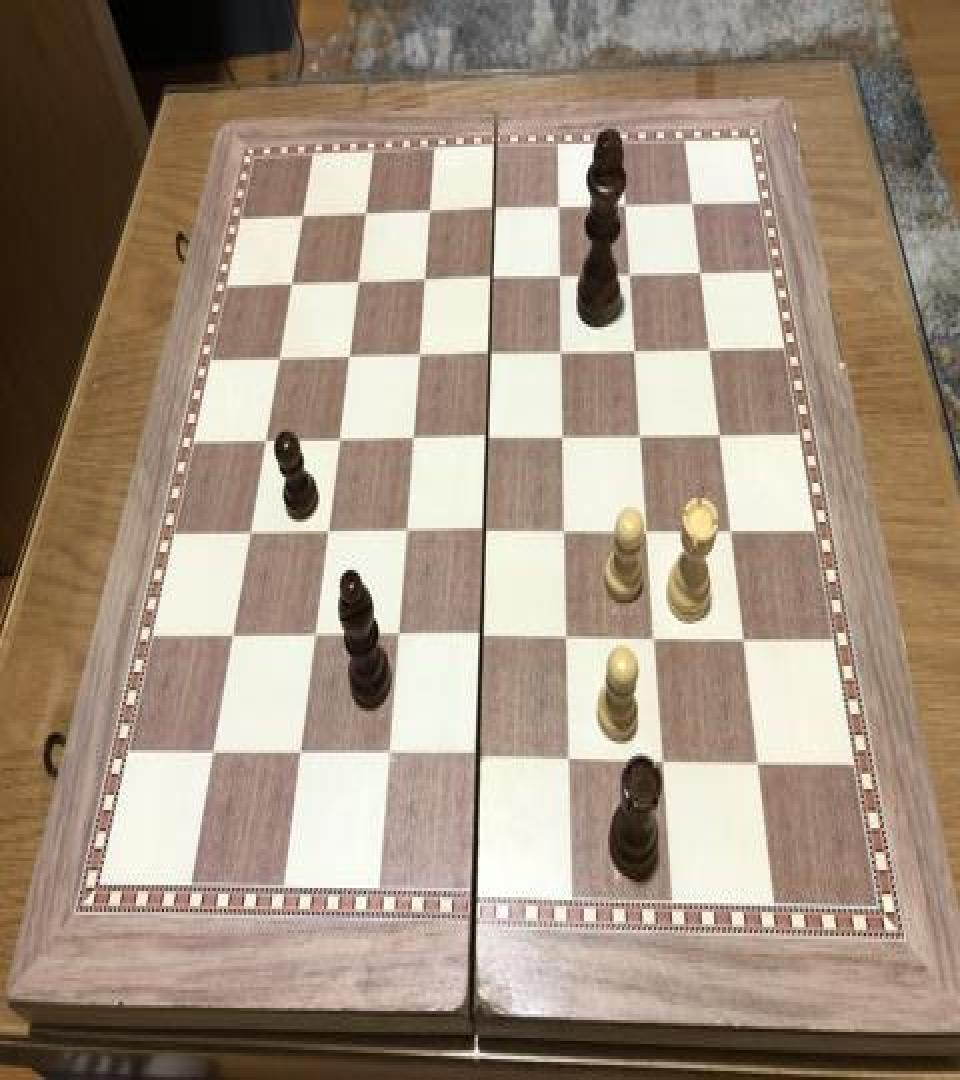xcorner: (721, 520, 745, 557), (646, 625, 670, 662), (560, 625, 584, 662), (390, 622, 414, 659), (748, 748, 772, 785), (471, 742, 495, 779), (292, 739, 316, 776), (683, 194, 707, 230), (617, 194, 641, 230), (551, 195, 575, 231), (485, 195, 509, 231), (421, 196, 445, 232), (356, 196, 380, 232), (293, 198, 317, 234), (691, 262, 715, 298), (621, 262, 645, 298), (552, 264, 576, 300), (484, 264, 508, 300), (416, 264, 440, 300), (348, 266, 372, 302), (281, 266, 305, 302), (700, 339, 724, 375), (627, 339, 651, 375), (554, 339, 578, 375), (482, 340, 506, 376), (410, 340, 434, 376), (339, 340, 363, 376), (269, 340, 293, 376), (710, 424, 734, 460), (633, 424, 657, 460), (556, 424, 580, 460), (479, 424, 503, 460), (404, 424, 428, 460), (329, 424, 353, 460), (255, 423, 279, 459), (639, 519, 663, 555), (558, 519, 582, 555), (477, 518, 501, 554), (397, 518, 421, 554), (318, 518, 342, 554), (240, 516, 264, 552), (734, 627, 758, 663), (474, 624, 498, 660), (306, 621, 330, 657), (223, 620, 247, 656), (655, 747, 679, 783), (562, 746, 586, 782), (381, 741, 405, 777), (204, 738, 228, 774)
